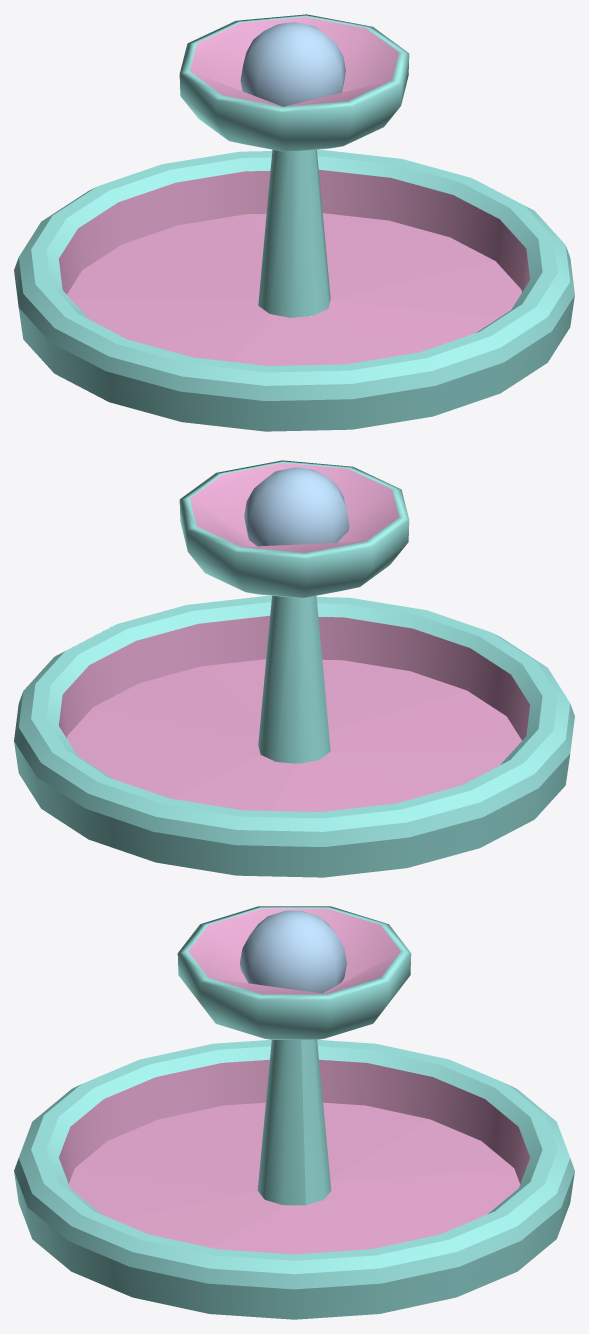
File: SM_Fountain_6.fbx
3 renders of one model, top to bottom at view 1: azimuth 30°, elevation 25°; view 2: azimuth 150°, elevation 25°; view 3: azimuth 270°, elevation 25°, orthographic.
Parts seen in each view (by area): view 1: SM_Fountain_6; view 2: SM_Fountain_6; view 3: SM_Fountain_6.
Part boxes in pixels (left/top/right/bottom): SM_Fountain_6: left=14, top=14, right=574, bottom=431; SM_Fountain_6: left=14, top=460, right=574, bottom=877; SM_Fountain_6: left=14, top=906, right=574, bottom=1319.
Bounding box in the file's own units: 465 × 263 × 465.
